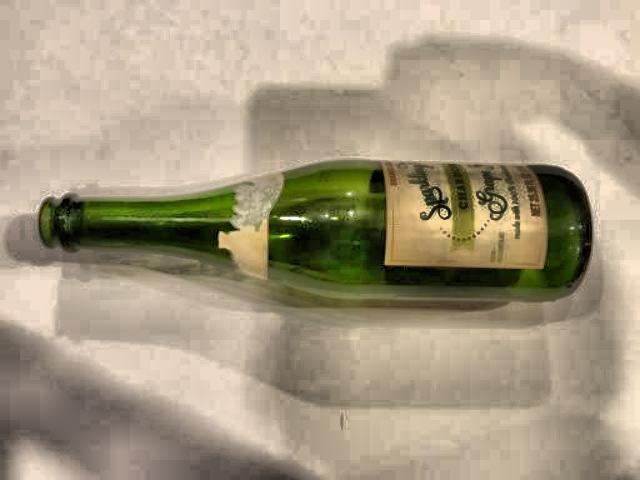Bottles: (2, 131, 609, 326)
